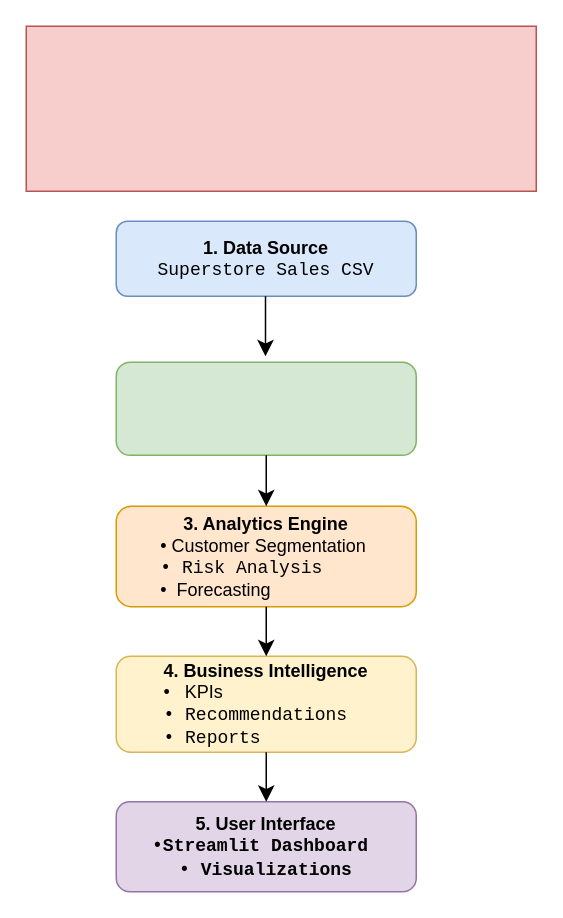
This 563x918 diagram has some shape labels left out. Here are the shapes that lost their labels. From the top down, the box of each, then its label:
(25, 25, 536, 191): Customer Intelligence Platform — System Architecture
(115, 361, 416, 455): 2. Data Processing • Cleaning • Validation • Feature Engineering
